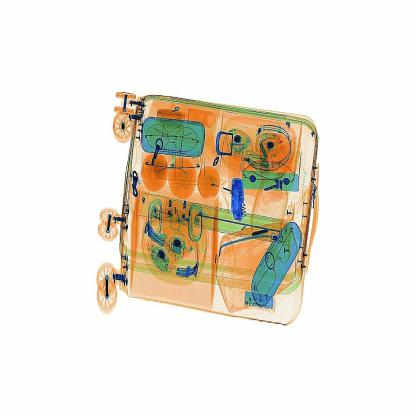scissors: (226, 172, 257, 237)
